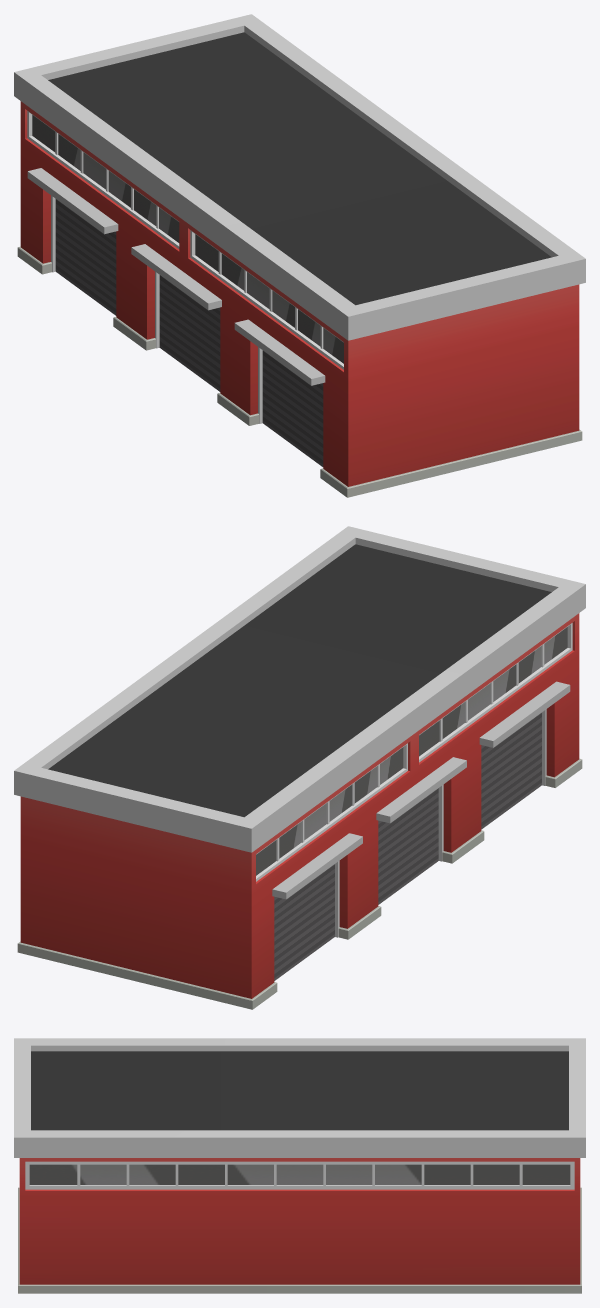
The model's file is Building_Fabric_3_A.fbx.
3 views of the same model, one above another, from view 1: azimuth 30°, elevation 25°; view 2: azimuth 150°, elevation 25°; view 3: azimuth 270°, elevation 25° (orthographic). The views are drawn at different scales.
Visible parts, largest first — view 1: Building_Fabric_3_A; view 2: Building_Fabric_3_A; view 3: Building_Fabric_3_A.
Boxes of the visible parts, x1,y1,x2,y2 form: Building_Fabric_3_A: [14, 14, 585, 497]; Building_Fabric_3_A: [14, 526, 585, 1009]; Building_Fabric_3_A: [14, 1038, 585, 1293].
Bounding box in the file's own units: 657 × 462 × 1531.
